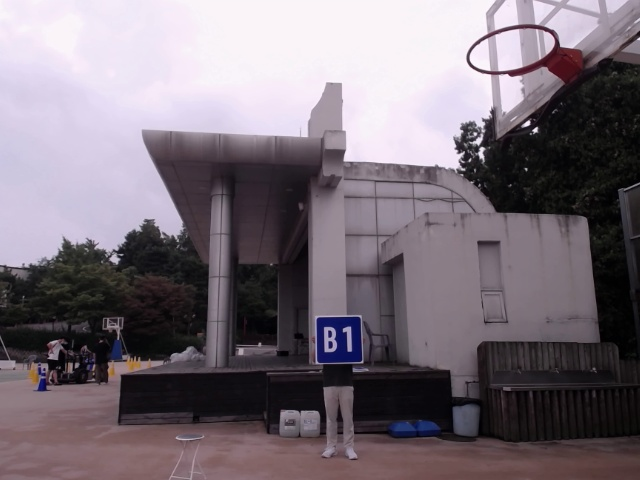delivery_b1: (315, 315, 363, 364)
